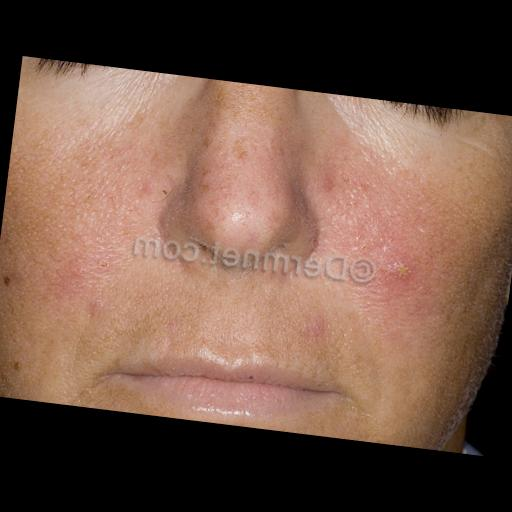Skin_Lesion: (210, 138, 256, 168), (128, 170, 166, 200), (302, 312, 330, 344), (388, 255, 419, 283), (318, 174, 354, 198), (82, 296, 108, 324), (94, 256, 123, 276), (299, 233, 323, 254), (0, 265, 18, 292), (7, 356, 25, 374)
